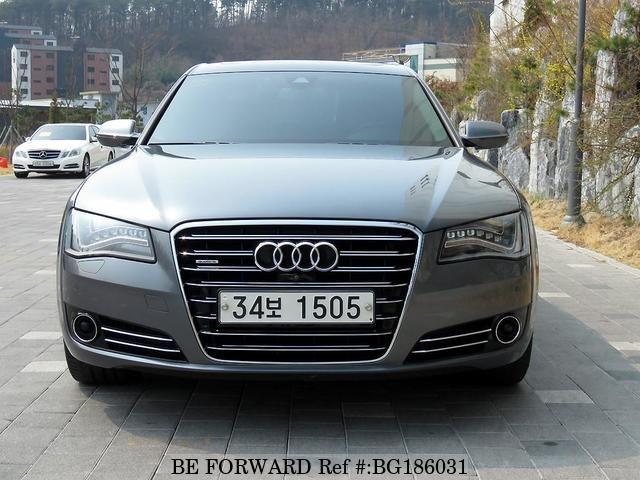audi: (245, 236, 340, 283)
